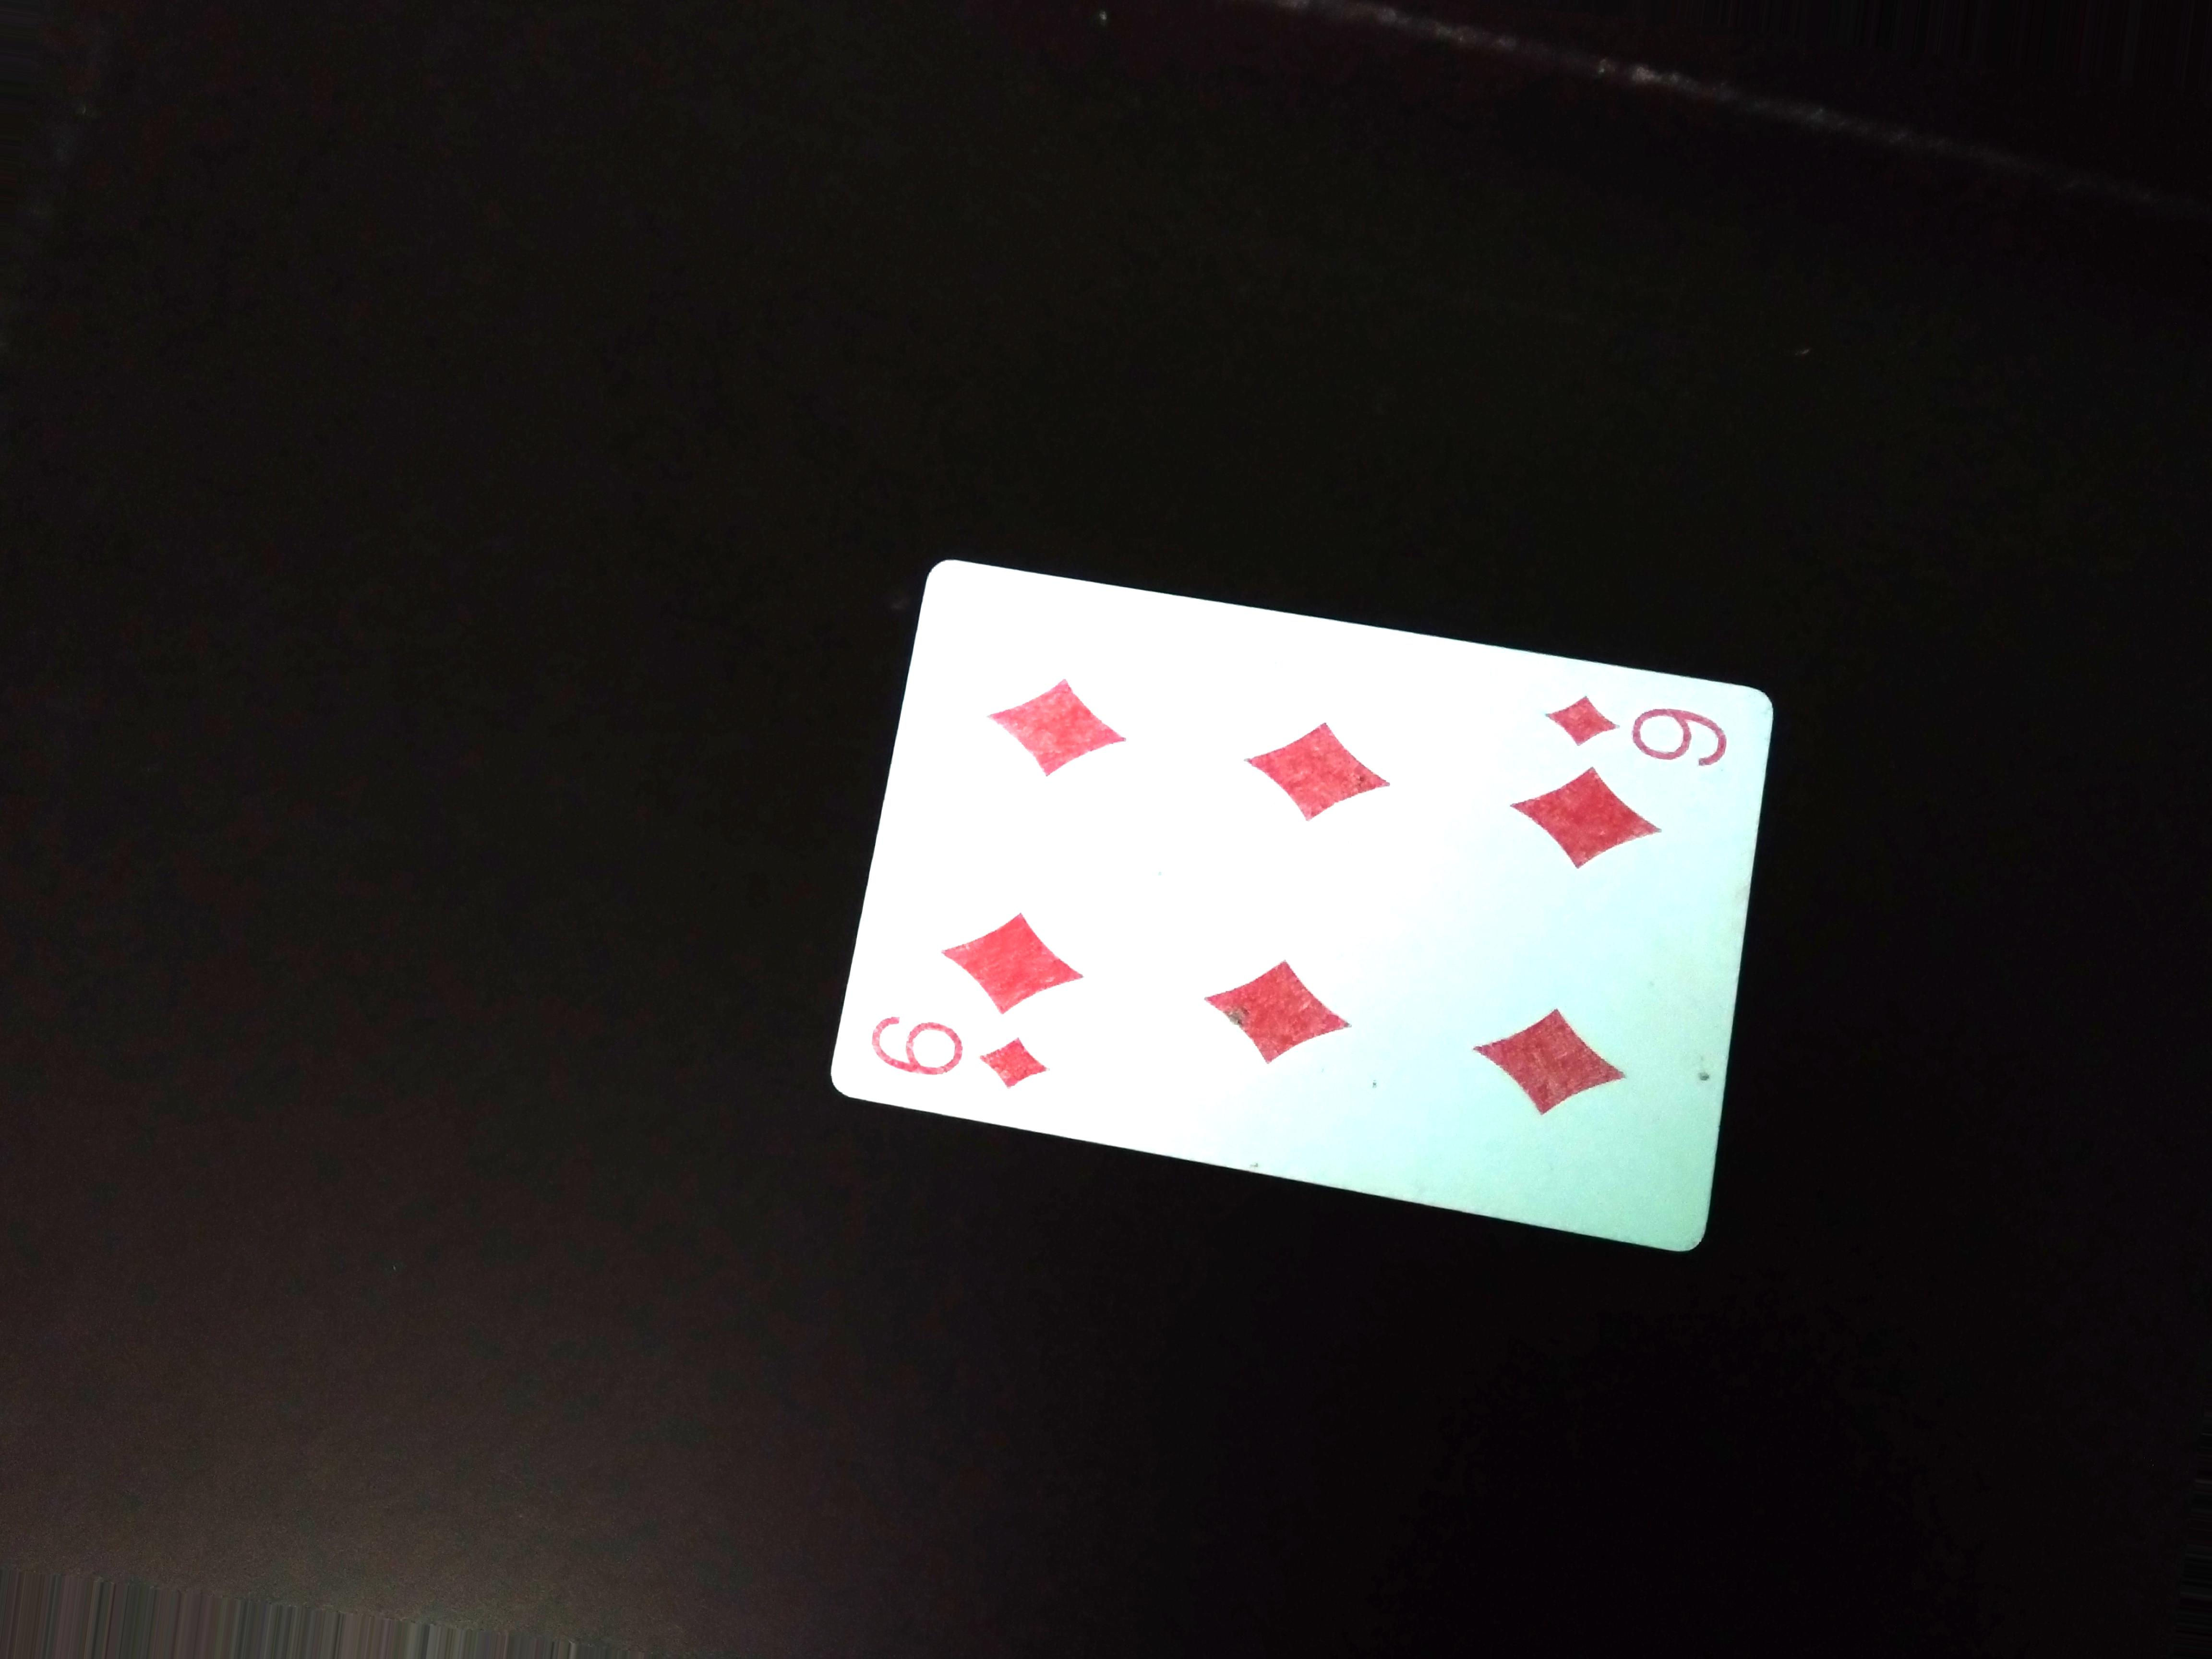6D: (1538, 681, 1763, 795)
